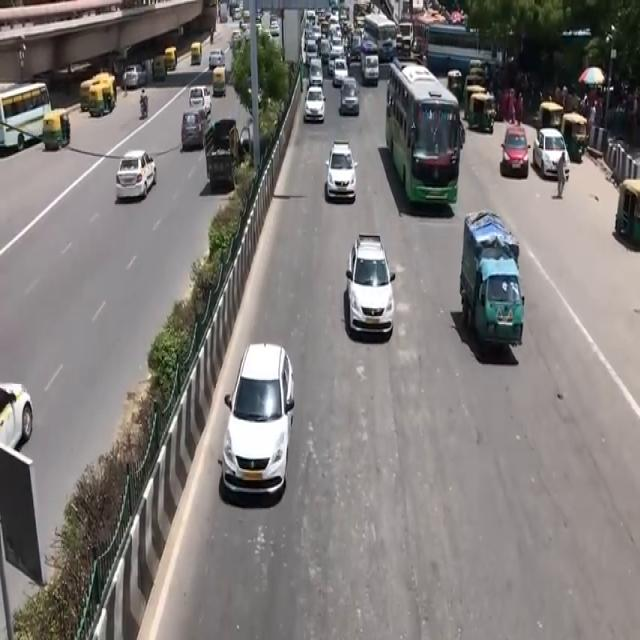BUS: (388, 68, 464, 214)
TRUCK: (464, 216, 526, 361)
